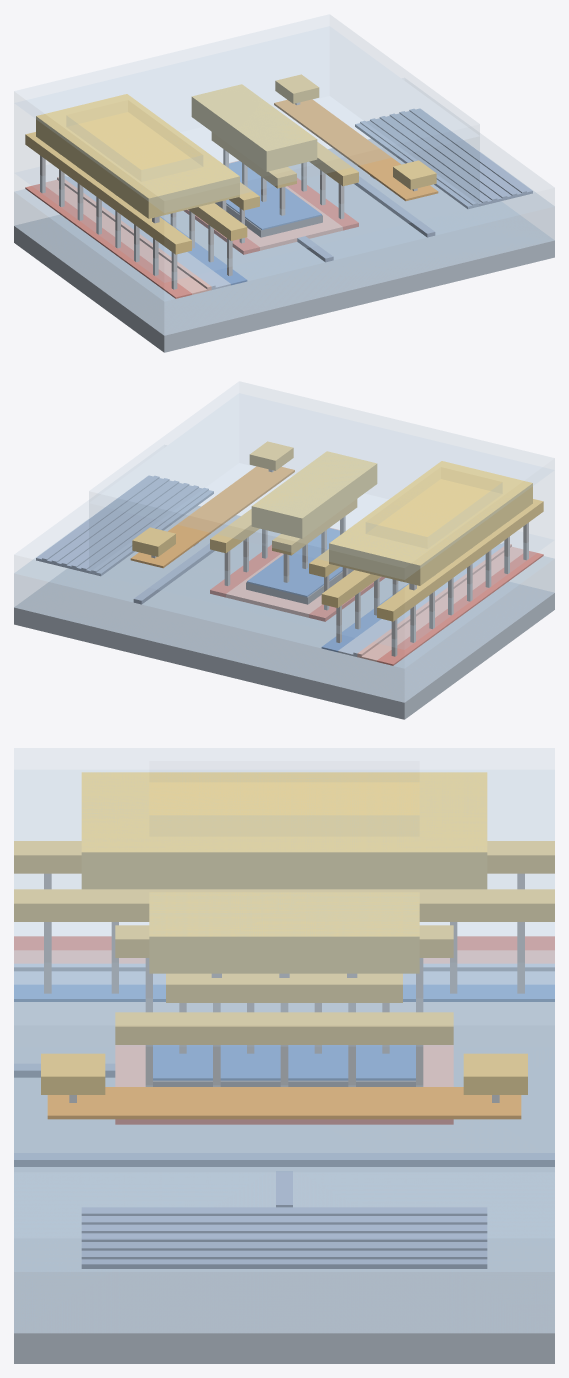
File: stack-soi.glb
3 renders of one model, top to bottom at view 1: azimuth 30°, elevation 25°; view 2: azimuth 150°, elevation 25°; view 3: azimuth 270°, elevation 25°, orthographic. The views are drawn at different scales.
Parts seen in each view (by area): view 1: clad, sisub, ox, metal2, si, metal1, tin, wplug, pdop, pp, nn, ndop (+1 smaller); view 2: clad, sisub, ox, metal2, metal1, si, tin, pdop, wplug, pp, nn, ndop (+1 smaller); view 3: clad, sisub, ox, metal2, metal1, si, tin, nn, wplug, ndop, pdop, pp (+1 smaller).
Part boxes in pixels (<box>): clad: <box>14,15,554,300</box>; sisub: <box>14,139,554,352</box>; ox: <box>14,152,554,335</box>; metal2: <box>36,84,317,218</box>; si: <box>297,108,532,262</box>; metal1: <box>25,74,436,254</box>; tin: <box>274,99,438,201</box>; wplug: <box>40,102,417,289</box>; pdop: <box>45,160,342,294</box>; pp: <box>25,178,358,298</box>; nn: <box>159,161,321,285</box>; ndop: <box>64,175,230,289</box>; clad: <box>14,382,554,667</box>; sisub: <box>14,506,554,719</box>; ox: <box>14,519,554,702</box>; metal2: <box>251,451,532,585</box>; metal1: <box>132,441,543,621</box>; si: <box>36,475,214,604</box>; tin: <box>130,466,294,568</box>; pdop: <box>226,527,523,661</box>; wplug: <box>151,469,528,656</box>; pp: <box>210,545,543,665</box>; nn: <box>247,528,409,652</box>; ndop: <box>338,542,504,656</box>; clad: <box>14,748,554,1271</box>; sisub: <box>14,1002,554,1363</box>; ox: <box>14,1047,554,1332</box>; metal2: <box>81,772,487,973</box>; metal1: <box>14,841,554,1094</box>; si: <box>14,1063,554,1268</box>; tin: <box>47,1087,521,1119</box>; nn: <box>14,984,554,1080</box>; wplug: <box>44,873,524,1102</box>; ndop: <box>14,963,554,984</box>; pdop: <box>14,950,554,1086</box>; pp: <box>14,936,554,1124</box>.
Size of the model in its own units: 24 by 8.9 by 16.
